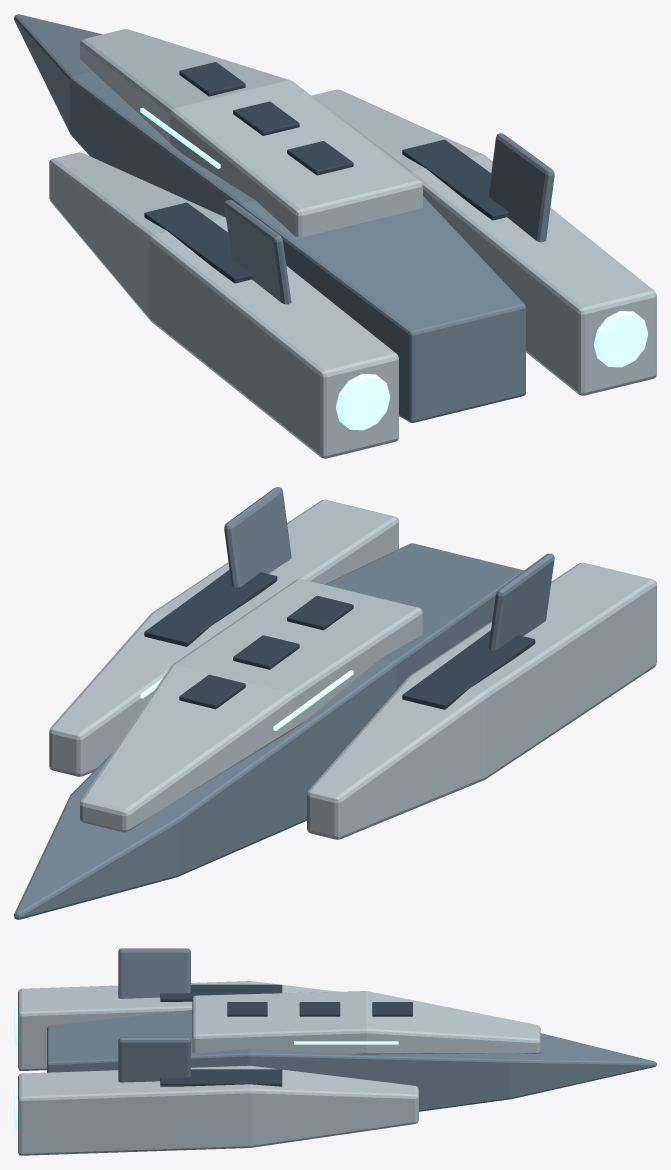
Rendered from Frigate.fbx.
3 views of the same model, one above another, from view 1: azimuth 30°, elevation 25°; view 2: azimuth 150°, elevation 25°; view 3: azimuth 270°, elevation 25° (orthographic). The views are drawn at different scales.
Visible parts, largest first — view 1: VisualMesh; view 2: VisualMesh; view 3: VisualMesh.
Boxes of the visible parts, box(x1,y1,x2,y2) form: VisualMesh: box(14, 14, 656, 458); VisualMesh: box(14, 487, 656, 919); VisualMesh: box(14, 948, 656, 1155).
Bounding box in the file's own units: 9 × 4.44 × 22.14.
